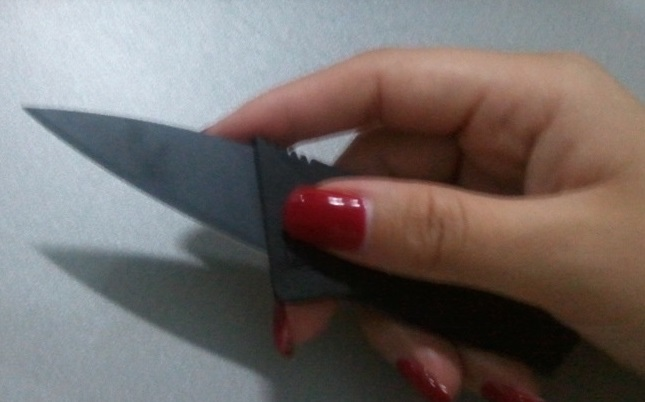knife: (13, 92, 386, 310)
